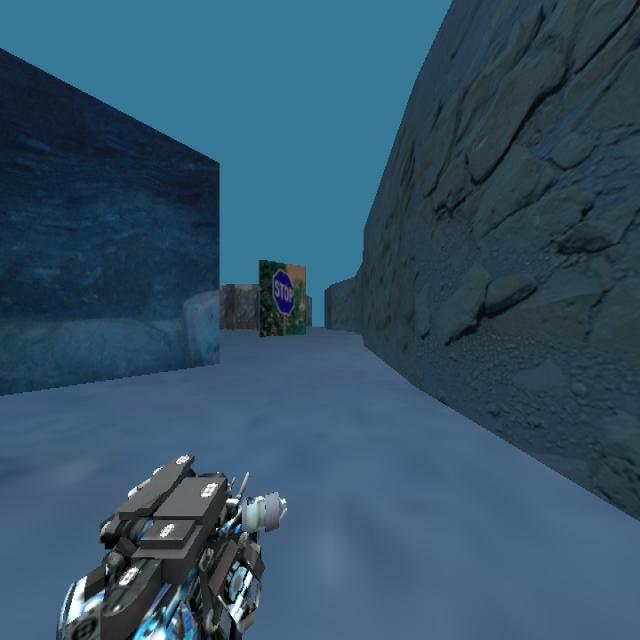Stop_Sign: (271, 267, 295, 316)
